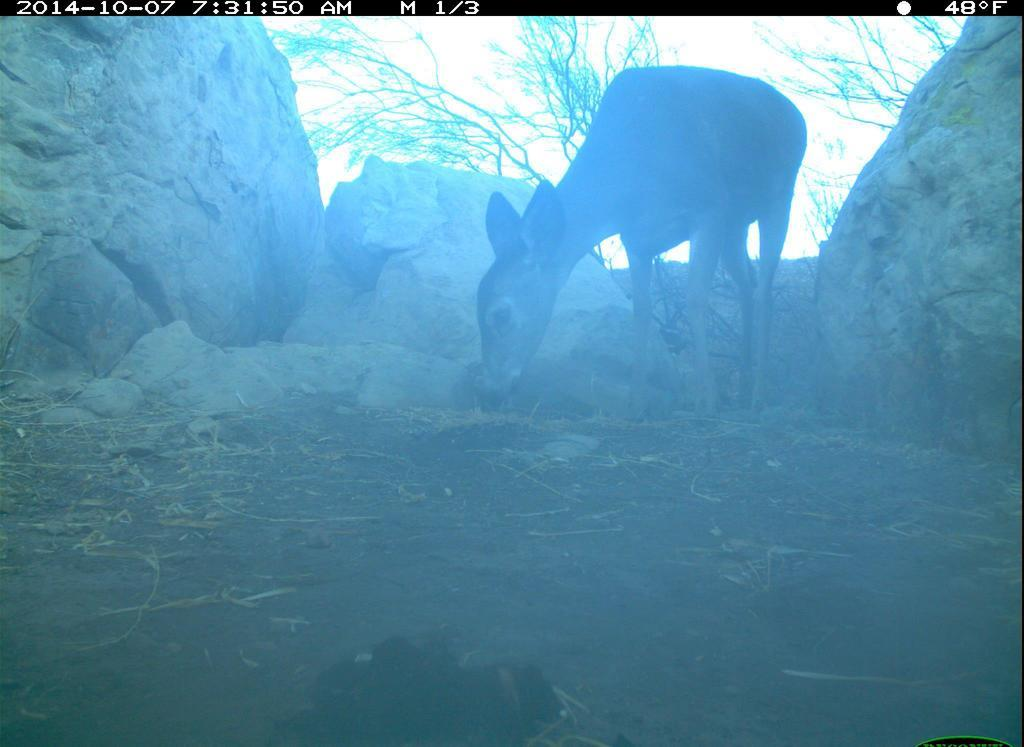deer: (466, 56, 809, 433)
